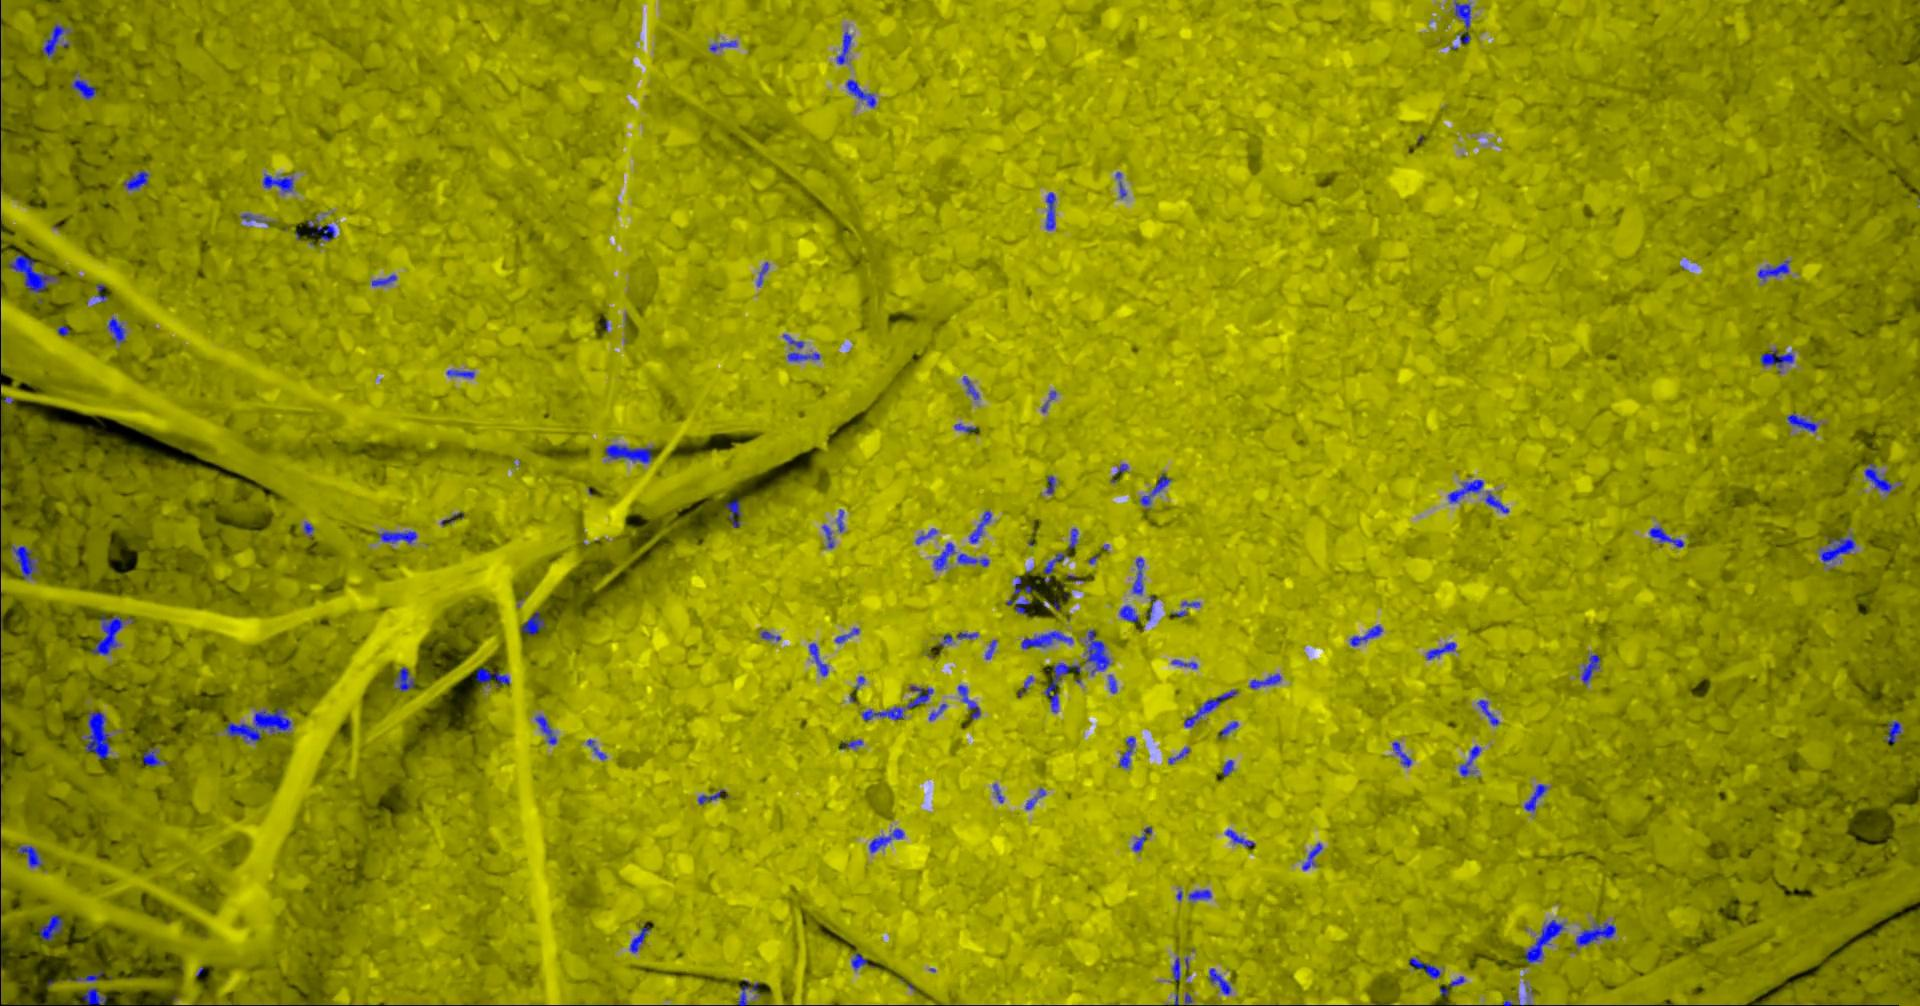ant: (863, 685, 935, 720), (226, 708, 292, 741), (1185, 688, 1239, 727), (9, 254, 58, 292), (1045, 662, 1082, 713), (1526, 920, 1566, 963), (83, 711, 110, 760), (91, 615, 124, 654), (1087, 629, 1112, 674), (1142, 473, 1173, 506), (11, 545, 41, 579), (1821, 533, 1857, 561), (1007, 575, 1031, 616), (1577, 921, 1617, 945), (1022, 630, 1074, 648), (606, 445, 653, 464), (43, 24, 69, 58), (1449, 479, 1484, 503), (871, 828, 905, 852), (848, 79, 877, 107), (1865, 464, 1895, 492), (959, 683, 982, 719), (1761, 349, 1796, 372), (1650, 526, 1685, 547), (1455, 0, 1472, 43), (1351, 625, 1384, 647), (1410, 956, 1443, 978), (971, 511, 993, 542), (1525, 782, 1549, 810), (810, 641, 830, 674), (536, 714, 557, 744), (476, 667, 510, 686), (1759, 260, 1790, 281), (1044, 553, 1065, 582), (1462, 746, 1482, 776), (522, 611, 547, 635), (41, 915, 65, 940), (18, 845, 44, 868), (1209, 968, 1232, 995), (309, 218, 337, 240), (1583, 653, 1603, 683), (935, 542, 956, 569), (1478, 699, 1500, 725), (631, 923, 651, 951), (394, 667, 417, 691), (738, 979, 759, 1005), (264, 174, 295, 192), (1788, 413, 1818, 431), (1225, 829, 1256, 847), (1304, 842, 1324, 869), (1120, 735, 1137, 767), (124, 170, 150, 191), (1393, 741, 1413, 766), (838, 30, 853, 64), (1429, 641, 1457, 659), (72, 79, 97, 99), (1486, 492, 1510, 512), (1133, 826, 1153, 850), (1251, 673, 1283, 688), (957, 553, 990, 567), (143, 747, 168, 766), (83, 987, 108, 1005), (378, 531, 418, 542), (728, 498, 743, 527), (698, 789, 728, 804), (110, 316, 127, 343), (1027, 788, 1048, 809), (1134, 558, 1145, 594), (588, 739, 608, 760), (964, 375, 980, 399), (853, 951, 875, 969), (1018, 674, 1035, 697), (836, 627, 860, 643), (1121, 605, 1142, 622), (1887, 720, 1903, 742), (1170, 747, 1191, 763), (71, 970, 105, 981), (1048, 192, 1057, 230), (930, 702, 949, 720), (789, 351, 822, 361), (1219, 721, 1239, 737), (711, 39, 738, 51), (917, 528, 938, 542), (823, 525, 836, 547), (785, 334, 805, 348), (758, 262, 770, 286), (1190, 889, 1213, 901), (1117, 171, 1128, 197), (985, 639, 998, 659), (448, 370, 476, 379), (373, 274, 397, 285), (97, 283, 108, 304), (1173, 659, 1199, 668), (956, 423, 978, 433), (1173, 956, 1182, 981), (1069, 528, 1079, 547), (762, 631, 782, 640), (1224, 760, 1236, 775), (844, 739, 863, 748), (1048, 475, 1057, 493), (1110, 674, 1117, 694), (838, 509, 844, 531), (957, 633, 979, 639)
